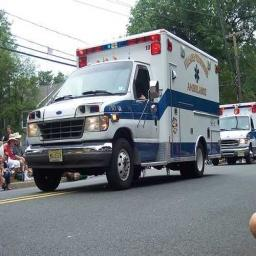Ambulance: (26, 29, 219, 190), (220, 102, 255, 163)
